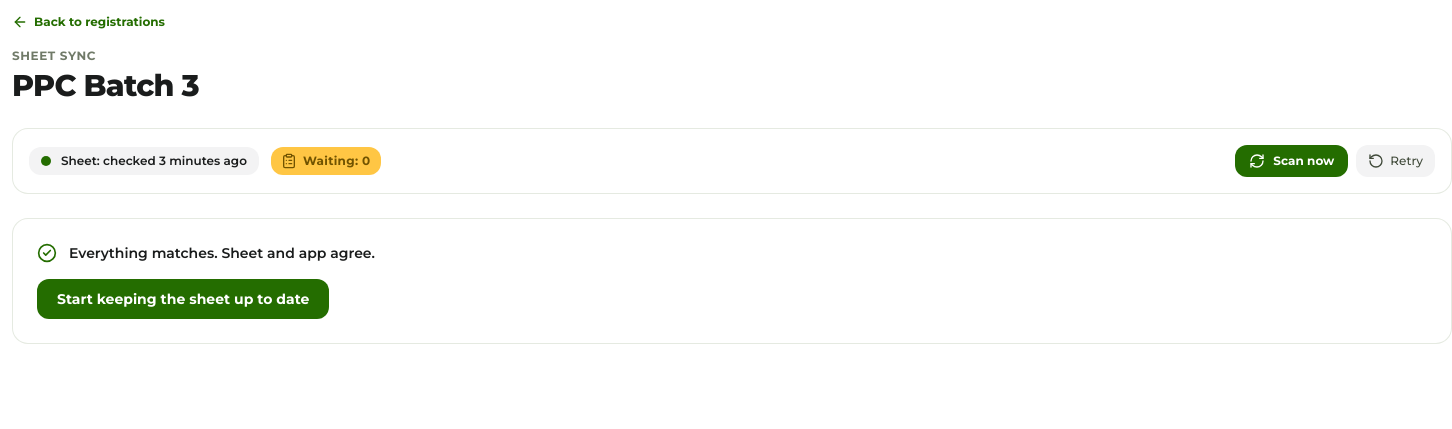
Test: SheetSyncPanel › offers to start keeping the sheet up to date when the first scan found no differences
Step 1. Click the button "Start keeping the sheet up to date" → coordinates (183, 299), box [37,279,329,319]
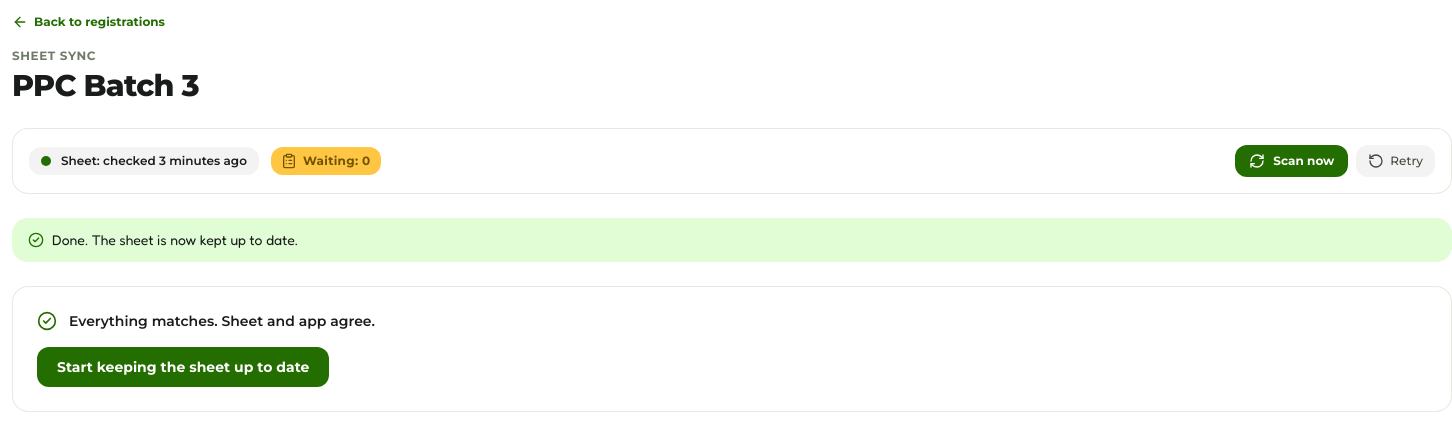
Now the text "Done. The sheet is now kept up to date." is shown, box [12,218,1451,262]
